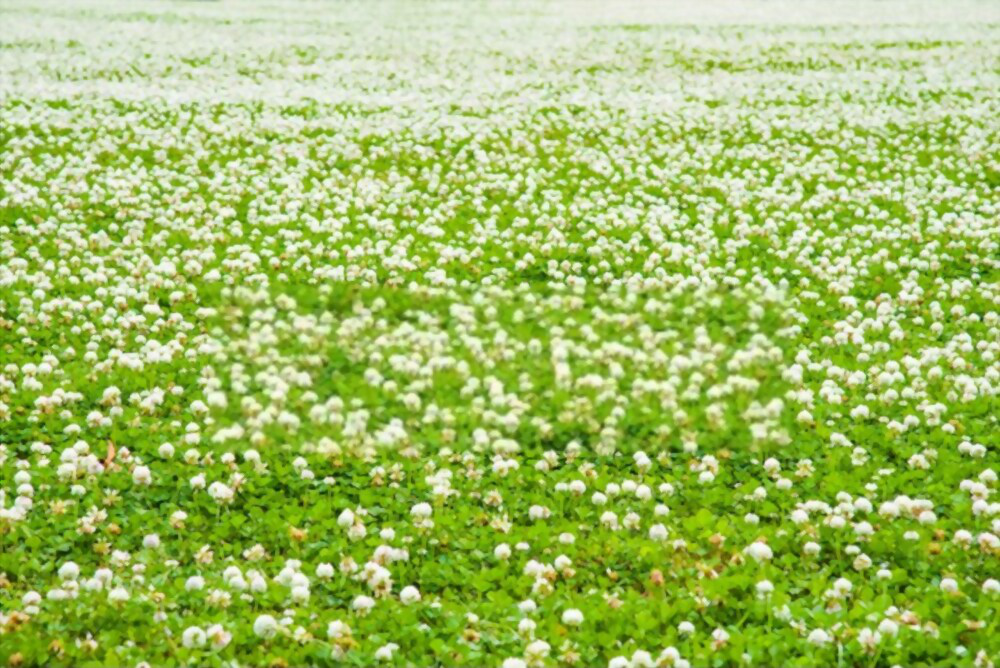clover: (1, 27, 1000, 663)
